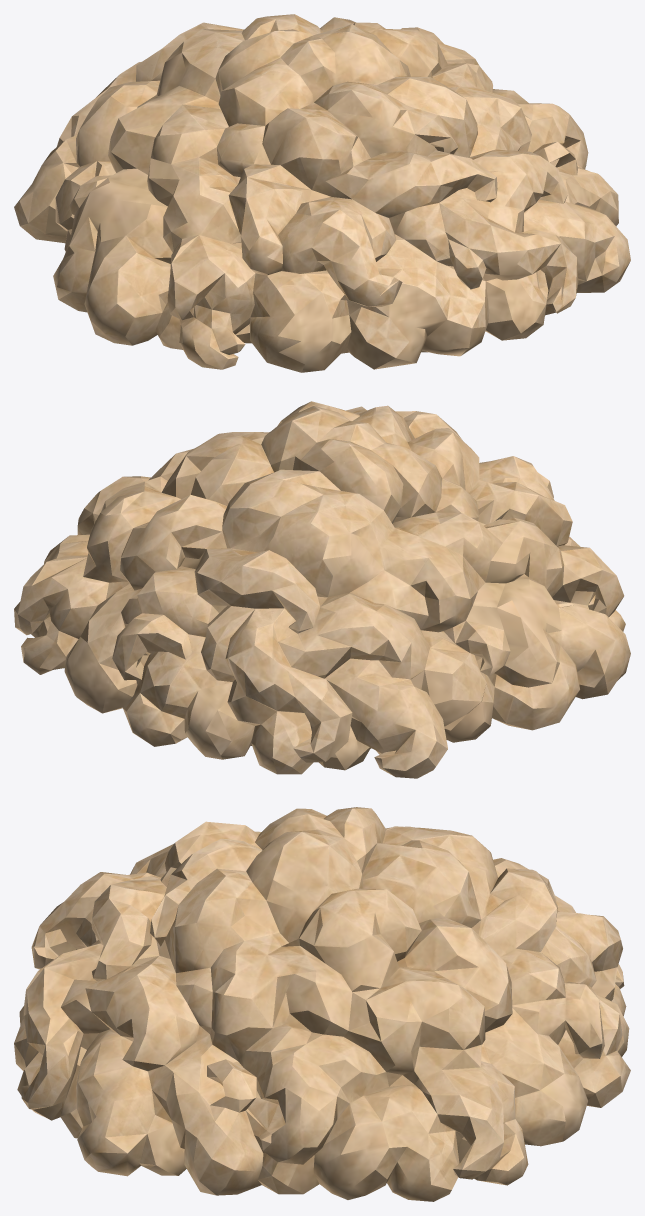
The model's file is fleece.glb.
3 views of the same model, one above another, from view 1: azimuth 30°, elevation 25°; view 2: azimuth 150°, elevation 25°; view 3: azimuth 270°, elevation 25° (orthographic). The views are drawn at different scales.
Size of the model in its own units: 1.9 by 0.808 by 1.79.
1 material, 1 textured.
